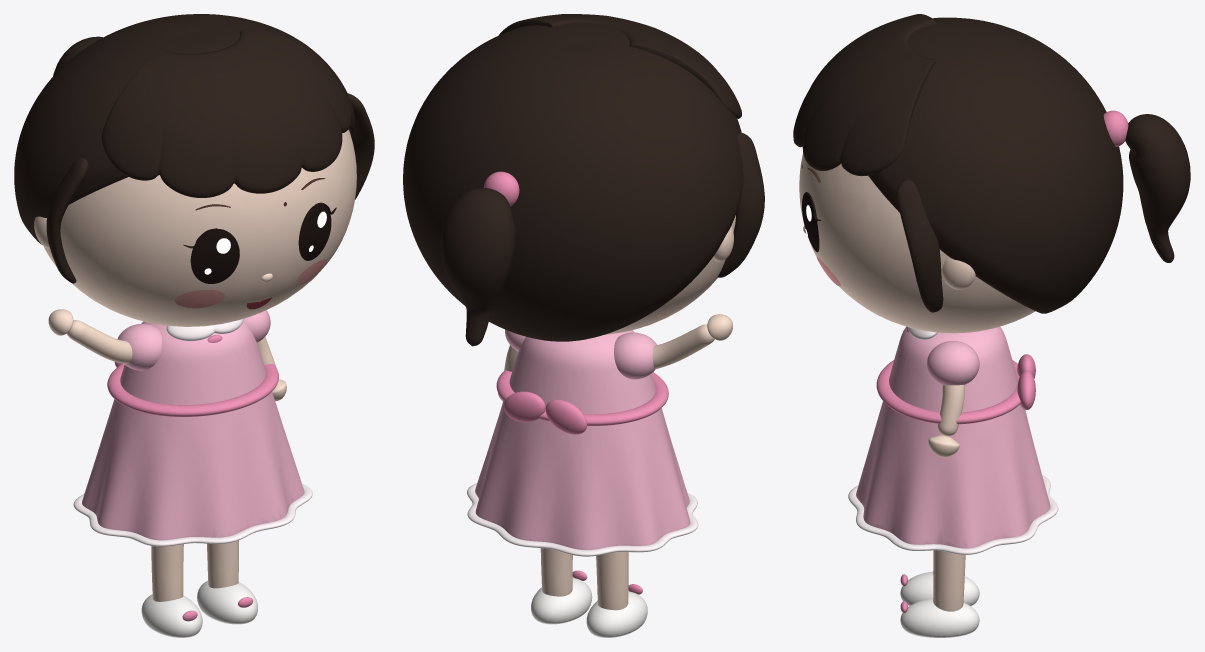
Rendered from seohui.glb.
3 renders of one model, left to right at view 1: azimuth 30°, elevation 25°; view 2: azimuth 150°, elevation 25°; view 3: azimuth 270°, elevation 25°, orthographic.
Visible parts, largest first — view 1: K1Dress, K1Bangs, K1Head, K1HairCap, K1Sash, K1Hem, K1SideLock.-1, K1Eye.-1, K1Shoe.1, K1Shoe.-1, K1Leg.-1, K1SideLock.1 (+8 smaller); view 2: K1HairCap, K1Dress, K1Ponytail, K1Bangs, K1SideLock.-1, K1Hem, K1Shoe.1, K1Shoe.-1, K1Leg.-1, K1Sash, K1Head, K1Puff.-1 (+6 smaller); view 3: K1HairCap, K1Dress, K1Head, K1Bangs, K1Ponytail, K1SideLock.1, K1Shoe.1, K1Sash, K1Hem, K1Puff.1, K1Leg.1, K1Shoe.-1 (+5 smaller).
Boxes of the visible parts, x1,y1,x2,y2 form: K1Dress: (82,321,304,540); K1Bangs: (102,29,351,197); K1Head: (43,129,356,326); K1HairCap: (14,14,354,244); K1Sash: (107,363,278,416); K1Hem: (73,484,312,546); K1SideLock.-1: (46,158,88,283); K1Eye.-1: (190,229,239,283); K1Shoe.1: (197,580,257,624); K1Shoe.-1: (141,594,202,637); K1Leg.-1: (151,544,183,601); K1SideLock.1: (347,93,374,199); K1HairCap: (403,23,743,341); K1Dress: (475,330,690,549); K1Ponytail: (440,188,515,346); K1Bangs: (498,14,741,118); K1SideLock.-1: (717,132,764,277); K1Hem: (467,483,698,556); K1Shoe.1: (531,578,592,624); K1Shoe.-1: (586,591,647,637); K1Leg.-1: (596,552,628,610); K1Sash: (496,370,668,425); K1Head: (604,215,735,334); K1Puff.-1: (614,332,656,379); K1HairCap: (868,17,1123,313); K1Dress: (856,326,1050,548); K1Head: (799,153,1035,333); K1Bangs: (793,14,936,176); K1Ponytail: (1125,114,1190,262); K1SideLock.1: (896,179,943,312); K1Shoe.1: (900,598,979,637); K1Sash: (876,360,1020,424); K1Hem: (848,475,1058,554); K1Puff.1: (927,341,979,385); K1Leg.1: (933,550,965,611); K1Shoe.-1: (900,571,979,606).
Size of the model in its own units: 1.4 by 2.39 by 1.5.
